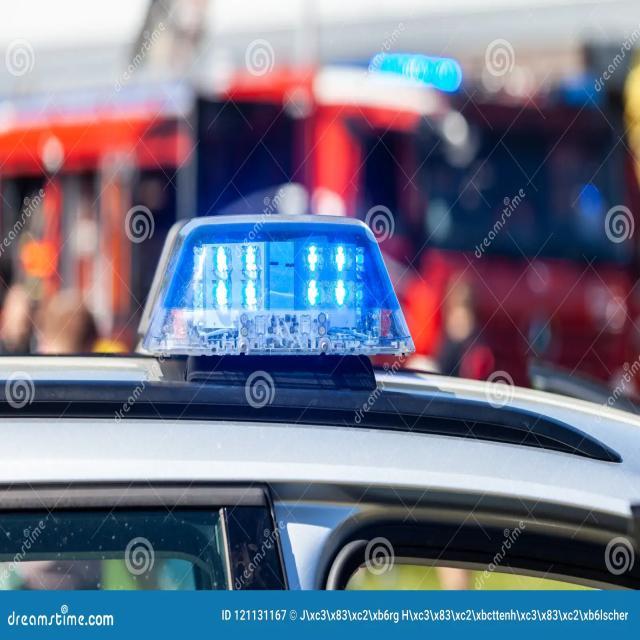emergency lights: (164, 217, 383, 373)
